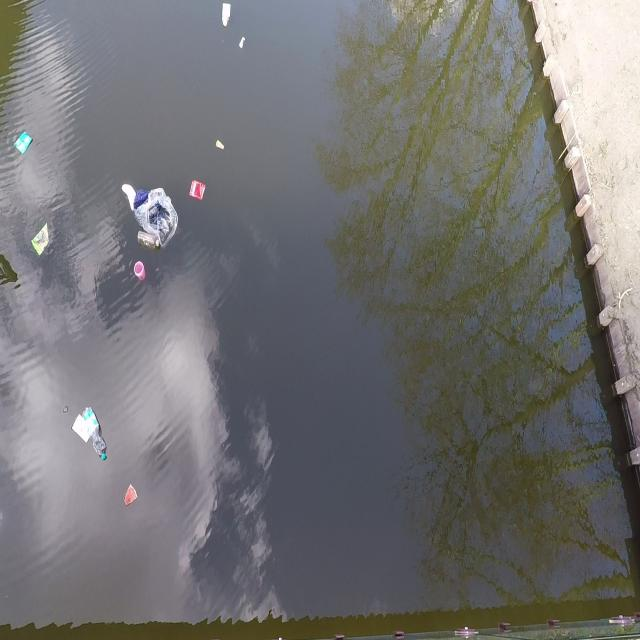Autre plastique: (68, 402, 90, 455), (26, 218, 54, 259), (13, 123, 33, 165), (185, 174, 209, 205), (130, 255, 151, 286)
Bouteille plastique: (79, 396, 112, 474), (132, 227, 164, 255)
Non plastique: (121, 483, 140, 512)
Sac plastique: (133, 180, 184, 252)
